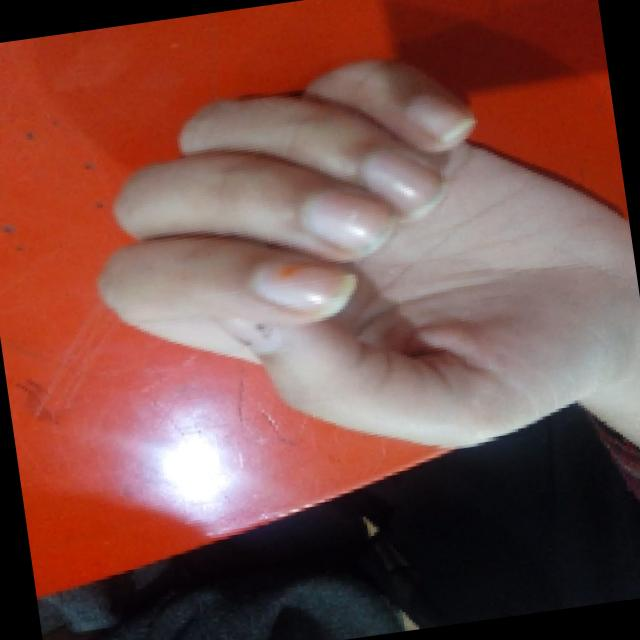Nail: (254, 257, 355, 317), (358, 145, 442, 213), (303, 189, 393, 248), (405, 92, 473, 146), (219, 316, 286, 357)
